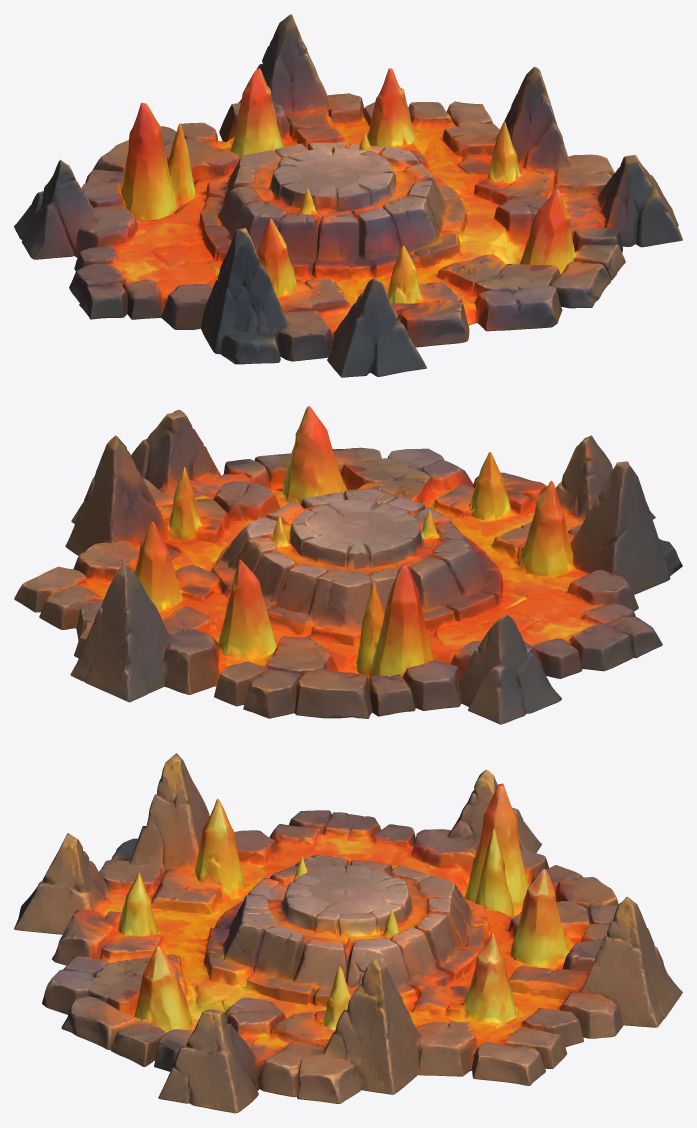
File: lava crater 3d model.glb
3 views of the same model, one above another, from view 1: azimuth 30°, elevation 25°; view 2: azimuth 150°, elevation 25°; view 3: azimuth 270°, elevation 25° (orthographic). The views are drawn at different scales.
Parts seen in each view (by area): view 1: tripo_node_3bb77a12-cd89-4830-9d1b-e9da72a71a2e; view 2: tripo_node_3bb77a12-cd89-4830-9d1b-e9da72a71a2e; view 3: tripo_node_3bb77a12-cd89-4830-9d1b-e9da72a71a2e.
Part boxes in pixels (x1,y1,x2,y2): tripo_node_3bb77a12-cd89-4830-9d1b-e9da72a71a2e: (14,14,682,377); tripo_node_3bb77a12-cd89-4830-9d1b-e9da72a71a2e: (14,406,682,724); tripo_node_3bb77a12-cd89-4830-9d1b-e9da72a71a2e: (14,753,682,1113).
Size of the model in its own units: 1 by 0.1972 by 0.9871.
1 material, 1 textured.
